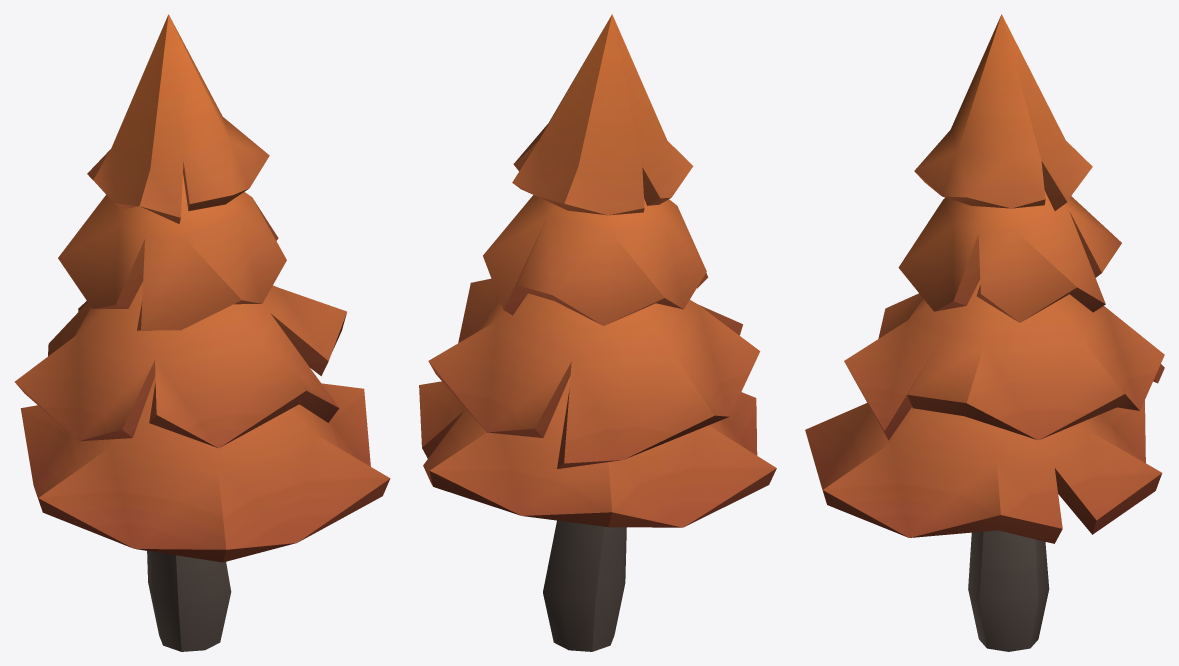
File: tree_pine_orange_medium.glb
3 renders of one model, left to right at view 1: azimuth 30°, elevation 25°; view 2: azimuth 150°, elevation 25°; view 3: azimuth 270°, elevation 25°, orthographic. The views are drawn at different scales.
Visible parts, largest first — view 1: tree_pine_orange_medium; view 2: tree_pine_orange_medium; view 3: tree_pine_orange_medium.
Part boxes in pixels (left/top/right/bottom): tree_pine_orange_medium: left=14, top=14, right=390, bottom=651; tree_pine_orange_medium: left=419, top=14, right=776, bottom=651; tree_pine_orange_medium: left=805, top=14, right=1164, bottom=651.
Bounding box in the file's own units: 3.33 × 5.87 × 3.12.
1 material, 1 textured.
